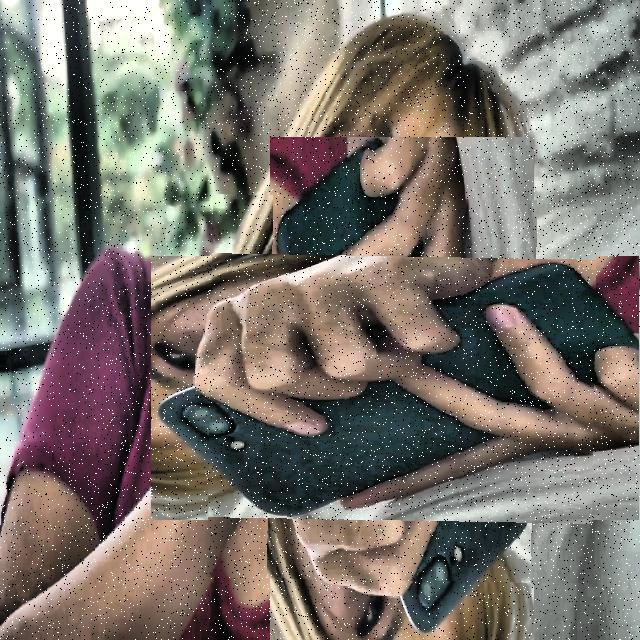Phone: (208, 196, 596, 582)
